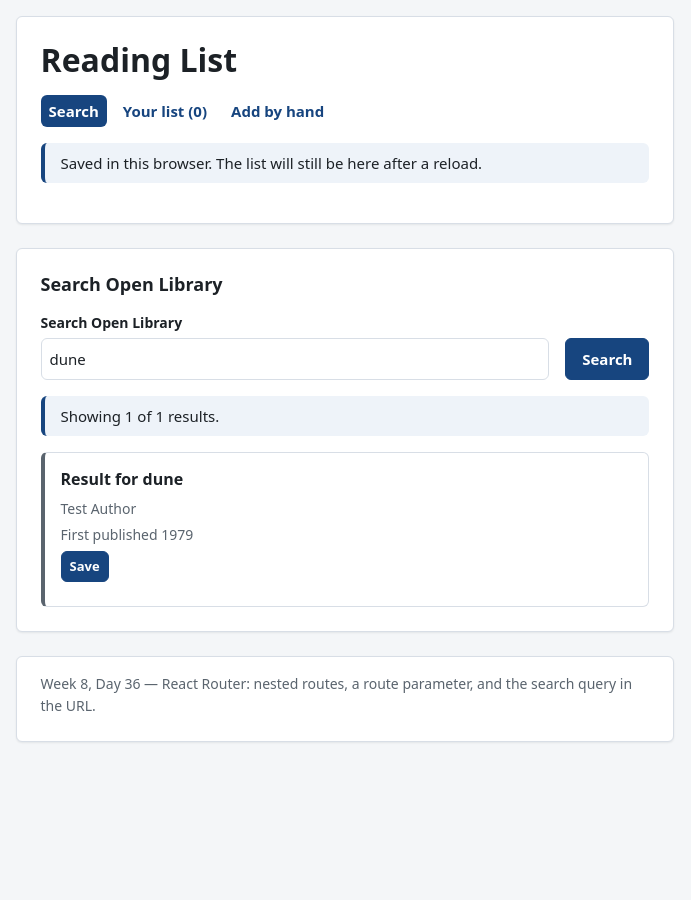
search to list, end to end › opens a saved book's detail route from the list
The width and height of the screenshot is (691, 900).
Click the button "Save" at (85, 566), box [60, 551, 109, 582]
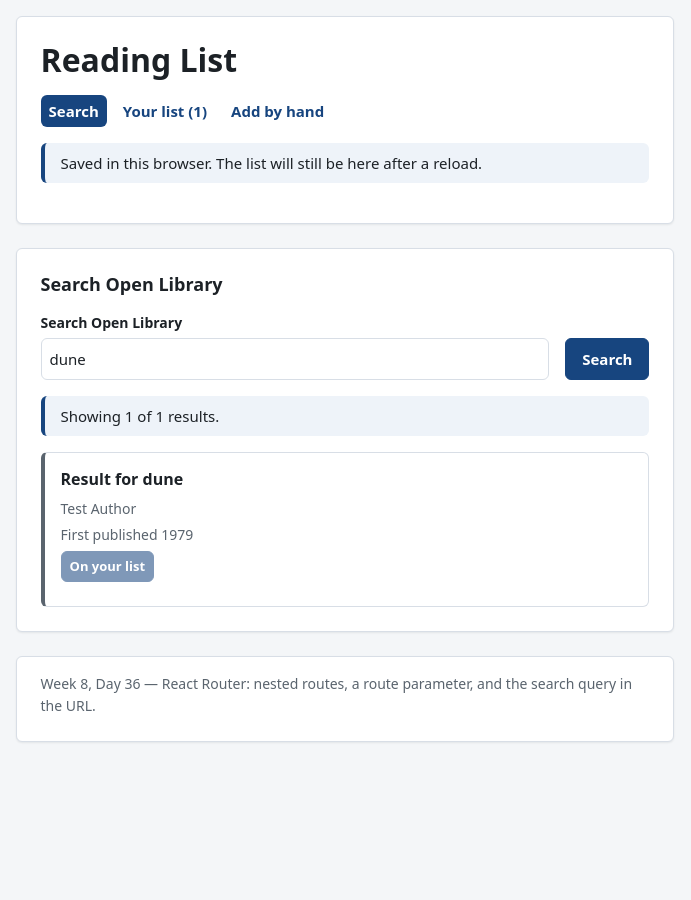
Click the link "Your list (1)" at (165, 111), box [123, 101, 207, 121]
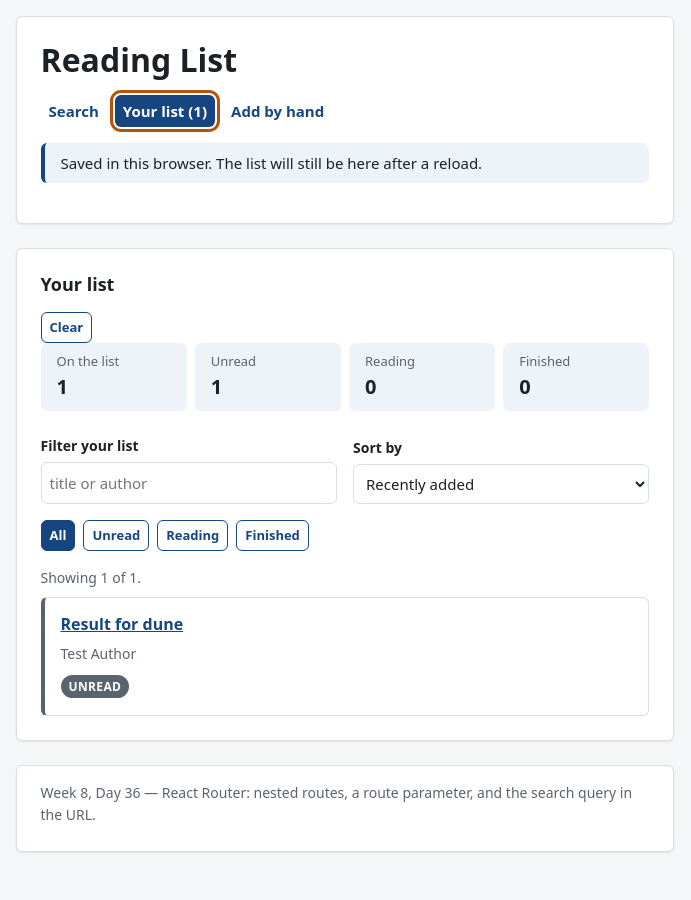
Click the link "Result for dune" at (122, 624), box [60, 613, 183, 635]
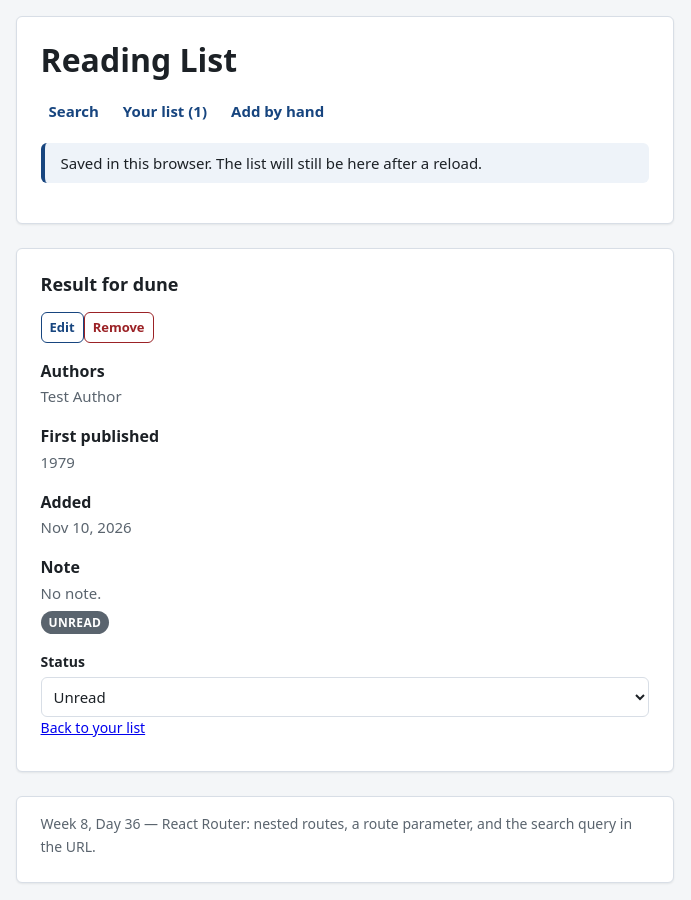
Check: the heading "Result for dune" is shown, box [40, 272, 178, 296]
Check: the dropdown labelled "Status" shows "Unread", box [40, 677, 649, 717]
